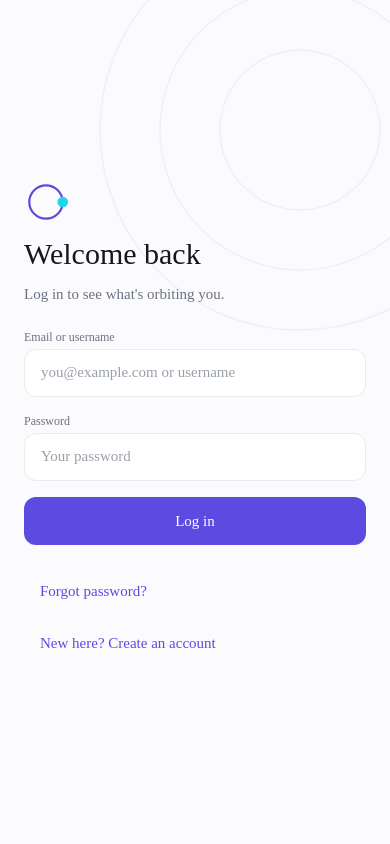
Test: LoginScreen › shows a form-level error on 401 without crashing
The image size is (390, 844).
Type "alice" into the field with placeholder "you@example.com or username" at (195, 372), box [41,364,349,381]
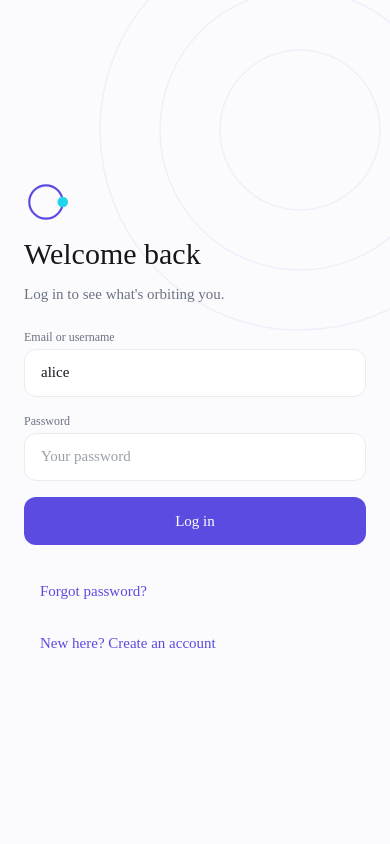
Type "abc12345" into the password field with placeholder "Your password" at (181, 456), box [41,448,321,465]
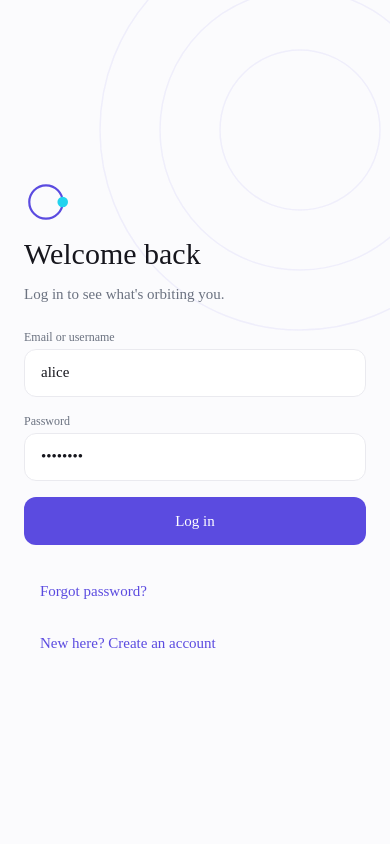
Click the button "Log in" at (195, 520), box [24,496,366,544]
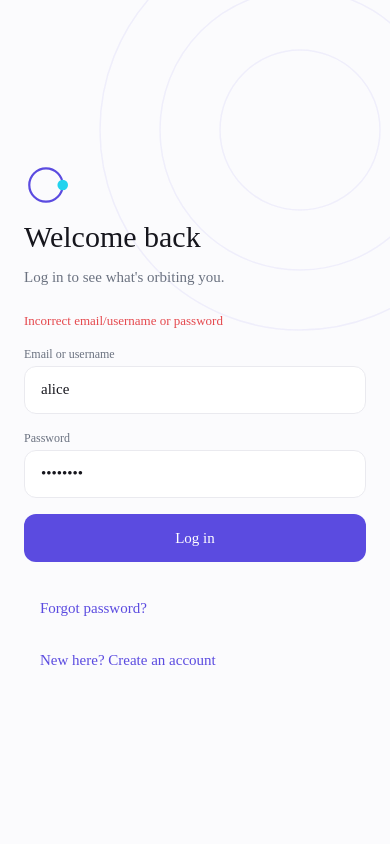
Check: the text "Incorrect email/username or password" is shown, box [24,312,223,328]
